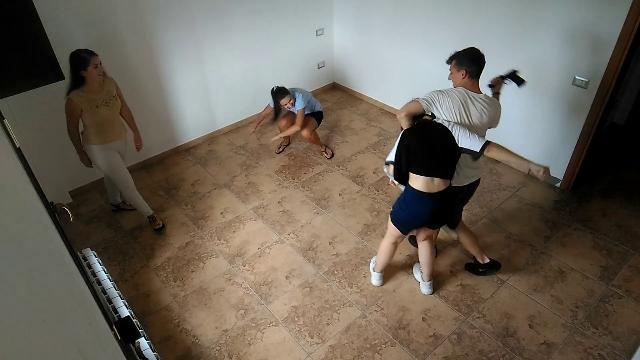non-violence: (62, 47, 168, 235), (246, 84, 336, 162)
violence: (368, 45, 552, 297)
weapon: (489, 70, 526, 89)
